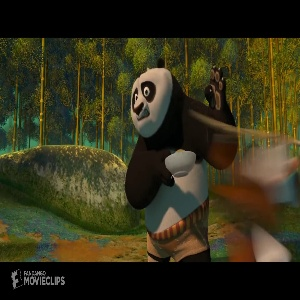po: (122, 55, 242, 262)
